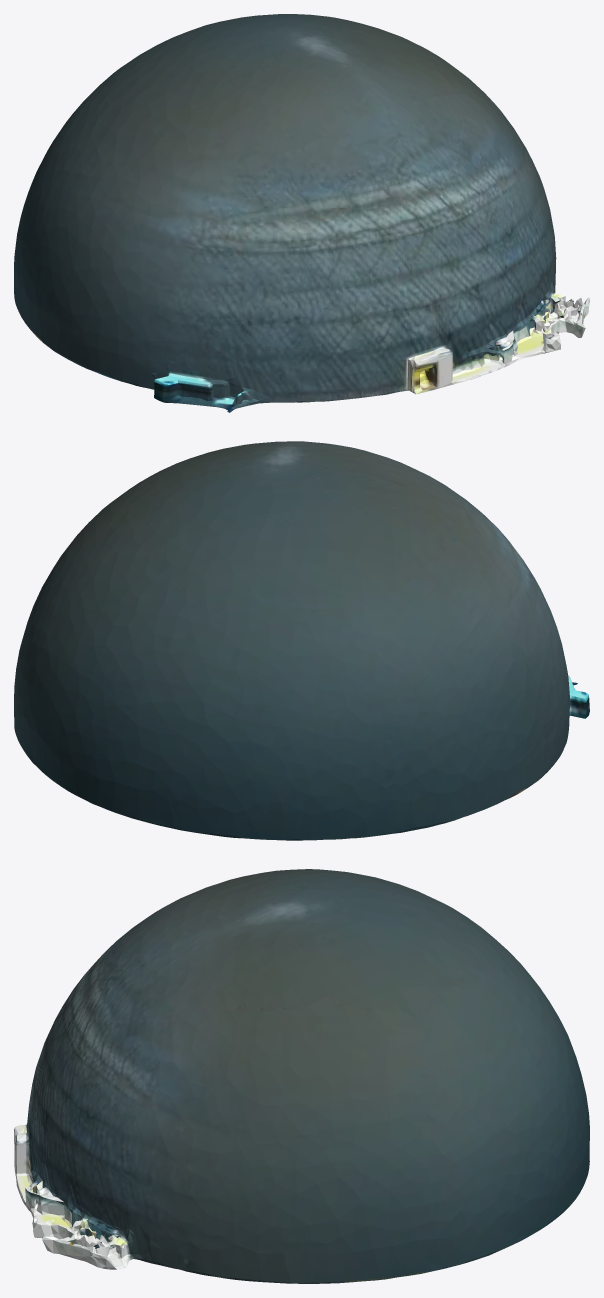
File: esfera.glb
The picture shows the model from 3 angles, top to bottom: view 1: azimuth 30°, elevation 25°; view 2: azimuth 150°, elevation 25°; view 3: azimuth 270°, elevation 25°; orthographic projection. The views are drawn at different scales.
Parts seen in each view (by area): view 1: tmp4mtalwrz.ply; view 2: tmp4mtalwrz.ply; view 3: tmp4mtalwrz.ply.
Boxes of the visible parts, <box> form: tmp4mtalwrz.ply: <box>14,14,589,412</box>; tmp4mtalwrz.ply: <box>14,441,589,840</box>; tmp4mtalwrz.ply: <box>14,869,589,1283</box>.
Size of the model in its own units: 1.99 by 1.01 by 1.99.
1 material, 1 textured.
